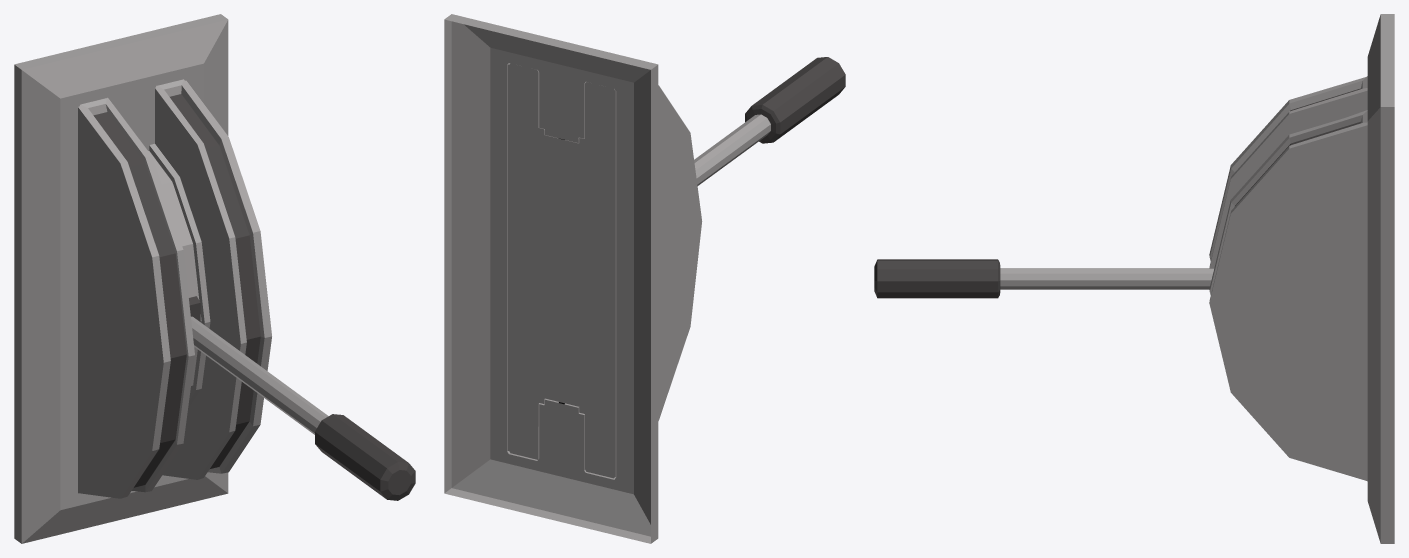
Rendered from WallSwitch_5.fbx.
3 renders of one model, left to right at view 1: azimuth 30°, elevation 25°; view 2: azimuth 150°, elevation 25°; view 3: azimuth 270°, elevation 25°, orthographic. The views are drawn at different scales.
Visible parts, largest first — view 1: WallSwitch_5_Casing, WallSwitch_5_Handle; view 2: WallSwitch_5_Casing, WallSwitch_5_Handle; view 3: WallSwitch_5_Casing, WallSwitch_5_Handle.
Boxes of the visible parts, x1,y1,x2,y2 form: WallSwitch_5_Casing: (14,14,271,543); WallSwitch_5_Handle: (189,296,415,500); WallSwitch_5_Casing: (444,14,702,543); WallSwitch_5_Handle: (694,57,845,185); WallSwitch_5_Casing: (1209,14,1394,543); WallSwitch_5_Handle: (874,259,1214,298).
Bounding box in the file's own units: 34.31 × 75.21 × 81.11.
